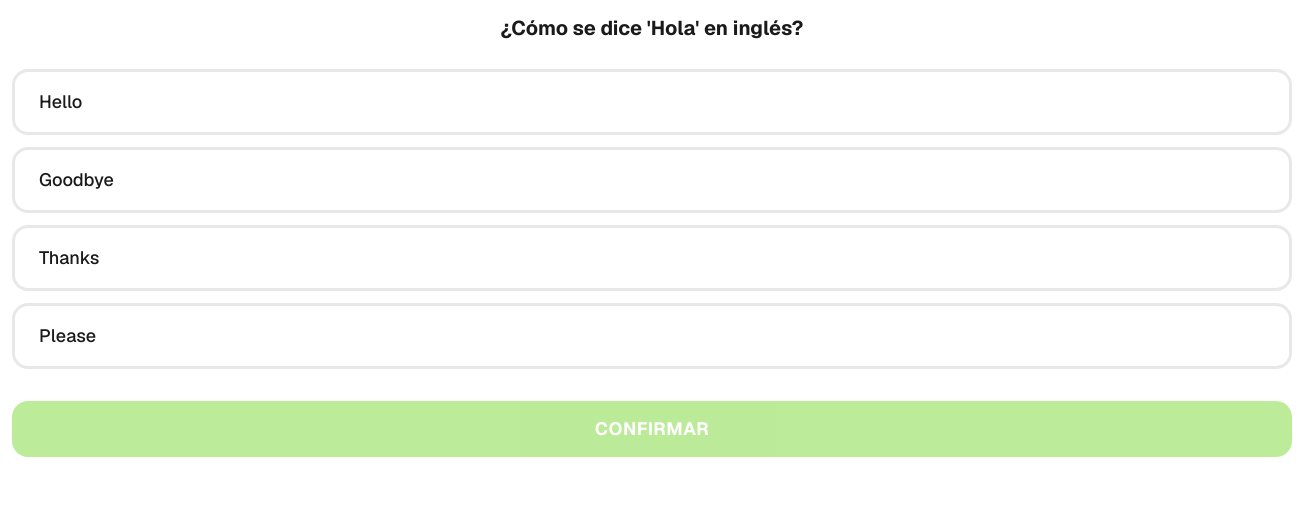
ExerciseCard › muestra feedback ✅ para una respuesta correcta
Click the button "Hello".
click(61, 101)  # box [12,68,1292,134]
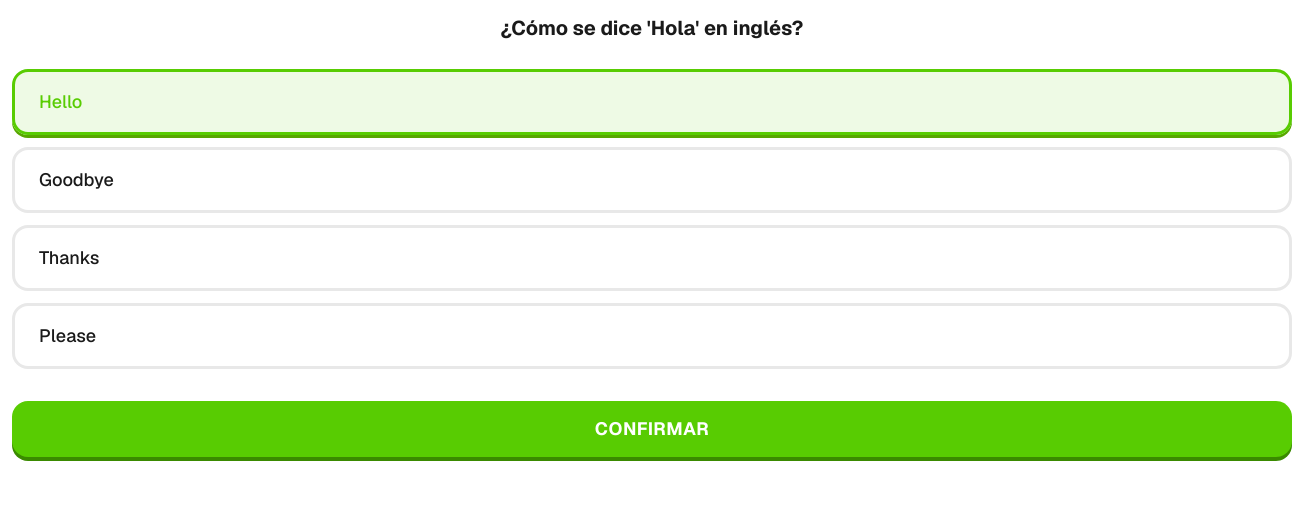
Click the button "confirmar".
click(652, 428)  # box [12,400,1292,456]
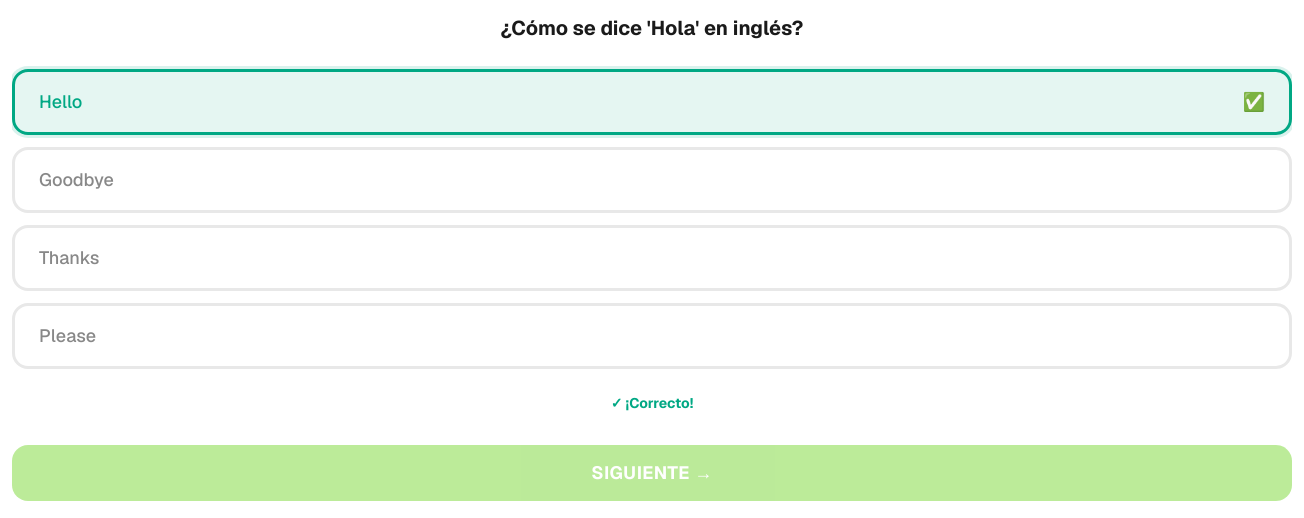
Expected: the text "✅" is shown, [1242,88,1265,116]
Expected: the button "siguiente →" is shown, [12,444,1292,500]
